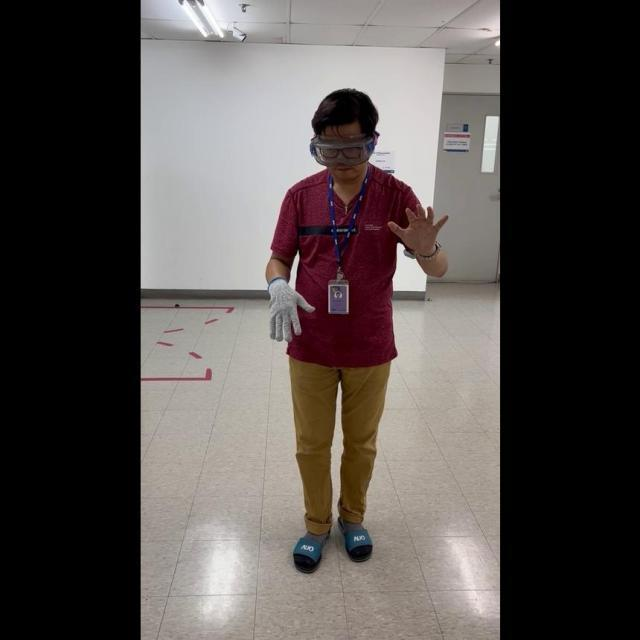bare_hand: (387, 198, 448, 256)
gloved_hand: (263, 271, 313, 341)
